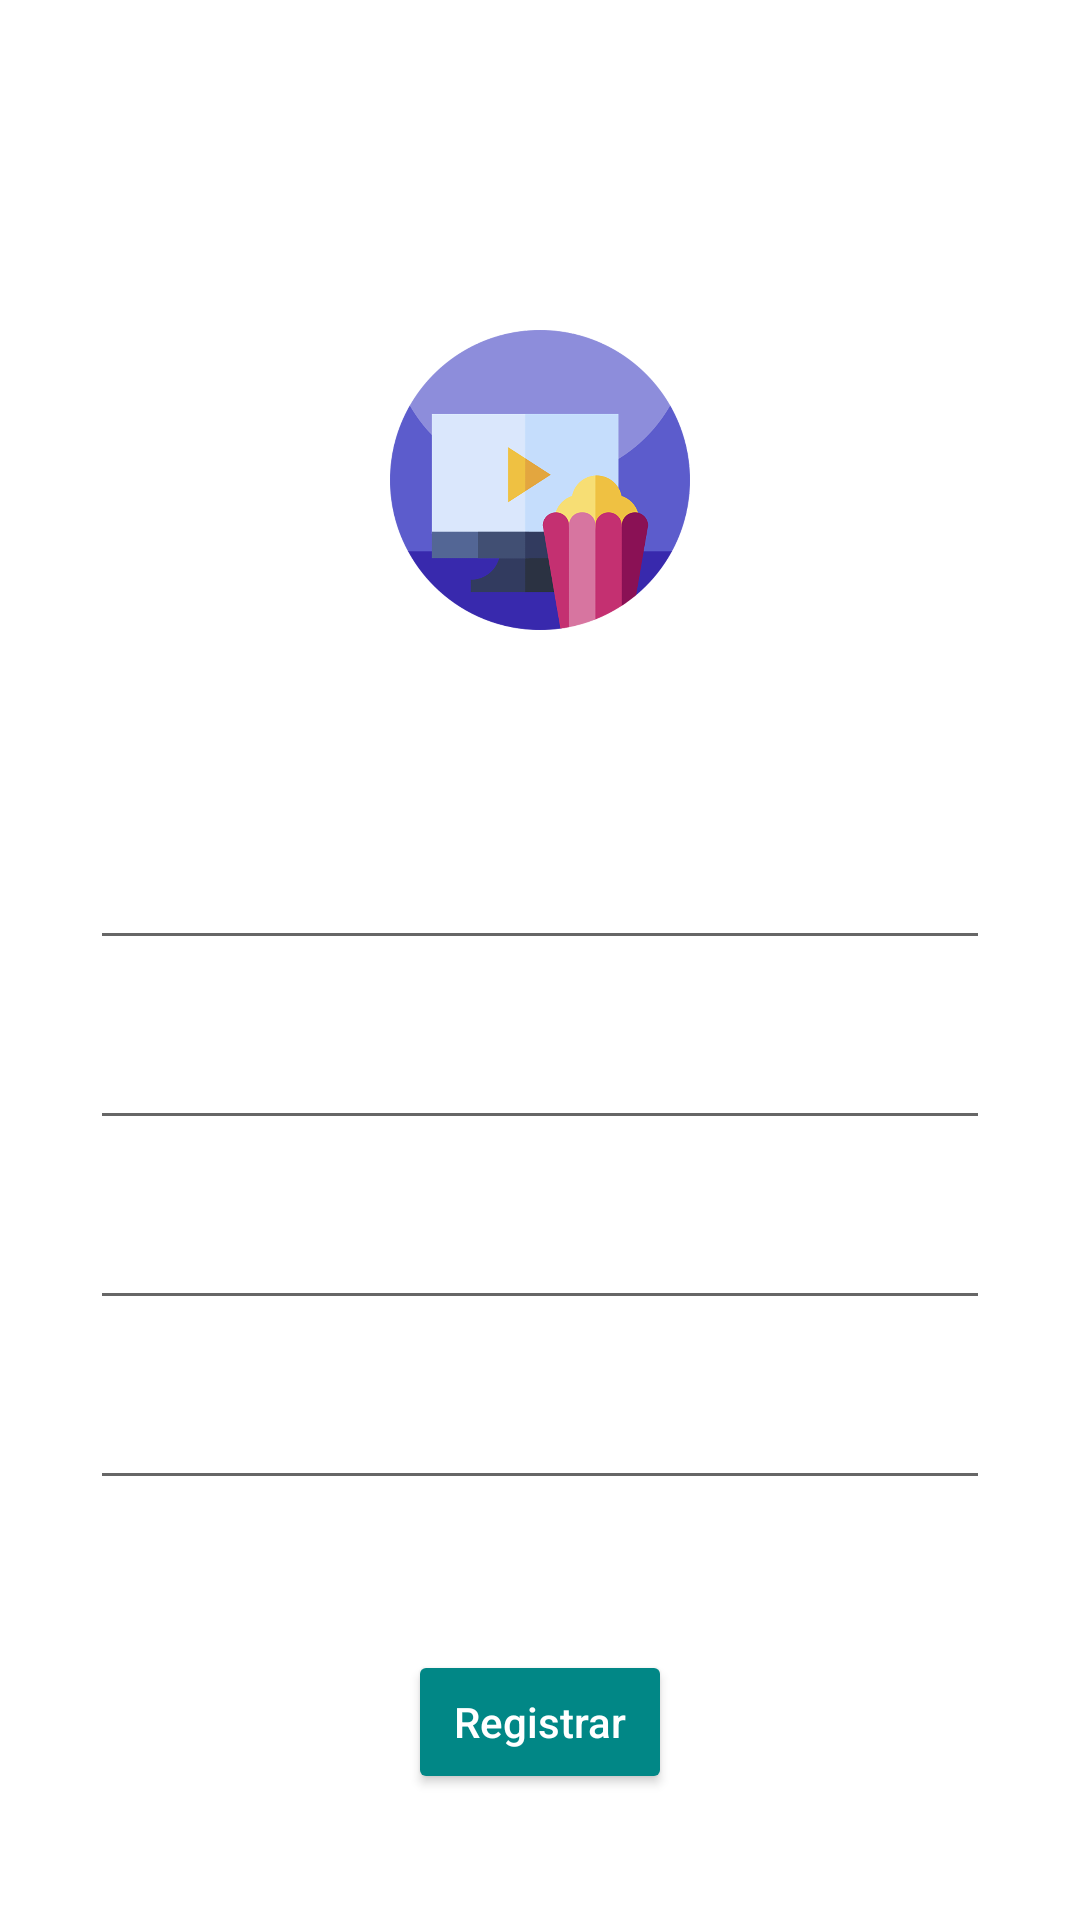

Named icons in this screenshot (1080*1920) and their bounding boxes, (x1, y1, x2, y2):
peli: (390, 330, 690, 630)
